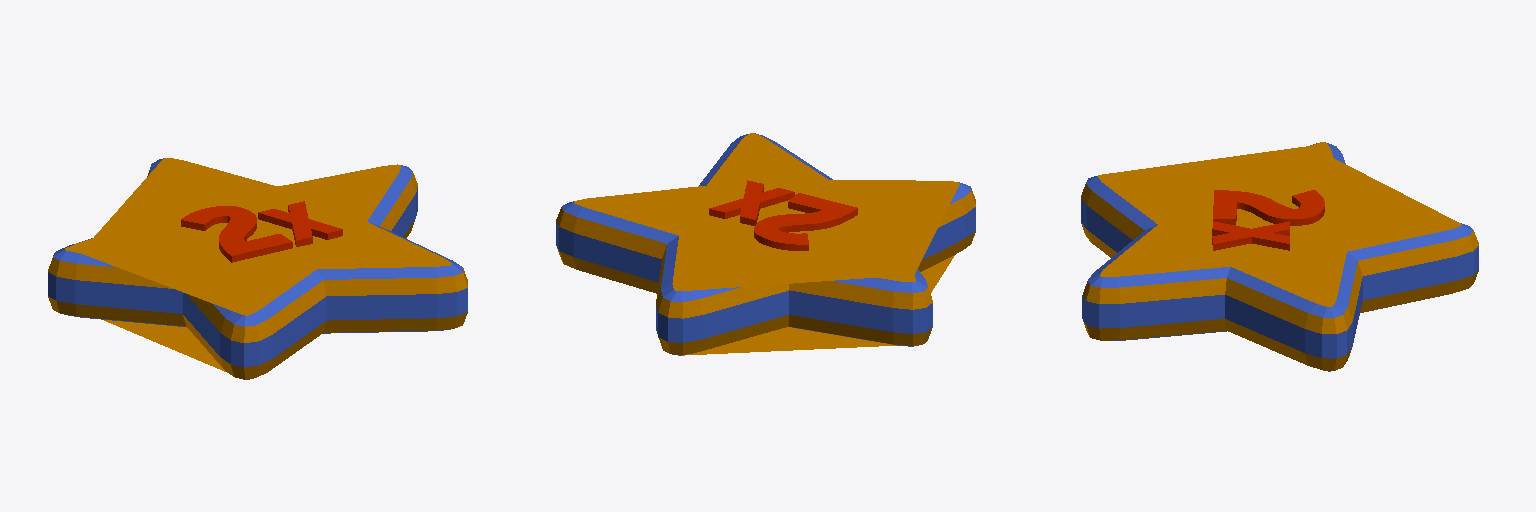
Rendered from 2x_star.obj.
The picture shows the model from 3 angles: view 1: azimuth 30°, elevation 25°; view 2: azimuth 150°, elevation 25°; view 3: azimuth 270°, elevation 25°; orthographic projection.
Visible parts, largest first — view 1: Cube_Cube.002, Text, Text.001; view 2: Cube_Cube.002, Text, Text.001; view 3: Cube_Cube.002, Text, Text.001.
Boxes of the visible parts, x1,y1,x2,y2 form: Cube_Cube.002: [48, 158, 467, 379]; Text: [181, 206, 292, 262]; Text.001: [258, 201, 342, 246]; Cube_Cube.002: [556, 133, 975, 355]; Text: [754, 193, 857, 250]; Text.001: [709, 180, 794, 225]; Cube_Cube.002: [1081, 142, 1478, 371]; Text: [1213, 190, 1324, 225]; Text.001: [1212, 221, 1289, 250].
Size of the model in its own units: 5.18 by 1.02 by 4.87.